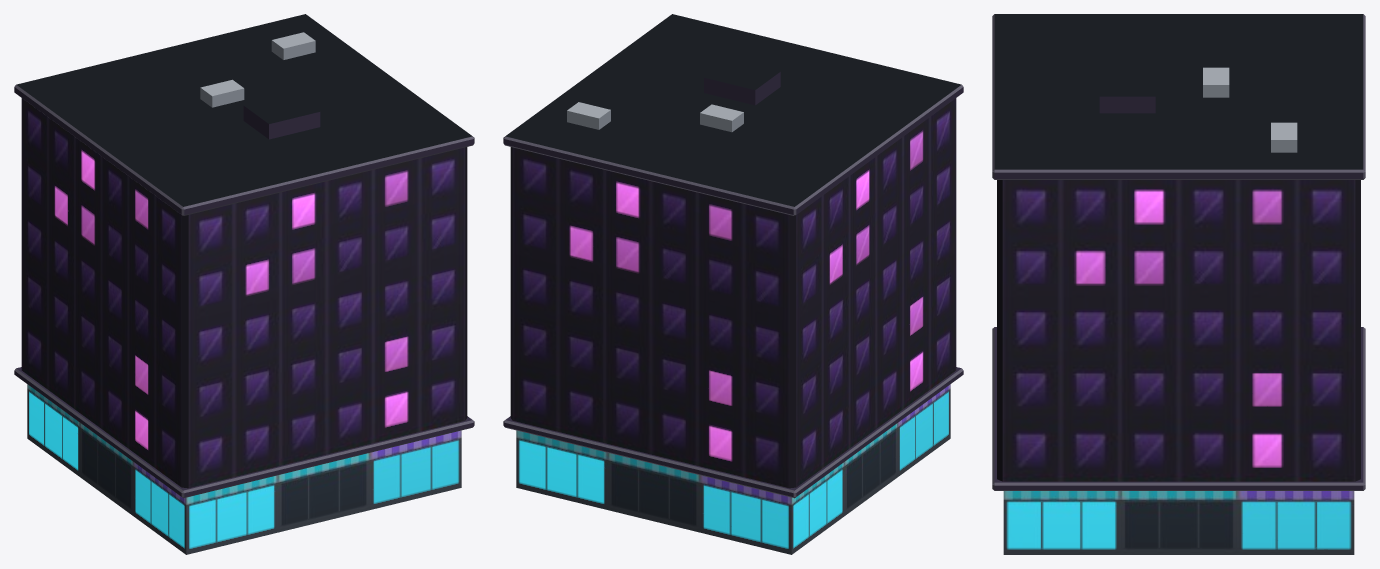
Rendered from building-20x20x24.glb.
3 views of the same model, side by side, from view 1: azimuth 30°, elevation 25°; view 2: azimuth 150°, elevation 25°; view 3: azimuth 270°, elevation 25° (orthographic). The views are drawn at different scales.
Parts seen in each view (by area): view 1: building-20x20x24; view 2: building-20x20x24; view 3: building-20x20x24.
Boxes of the visible parts, x1,y1,x2,y2 form: building-20x20x24: (14,14,474,554); building-20x20x24: (503,14,963,554); building-20x20x24: (992,14,1365,554).
Size of the model in its own units: 20 by 24 by 20.
Materials: 1 (1 with a texture image).
